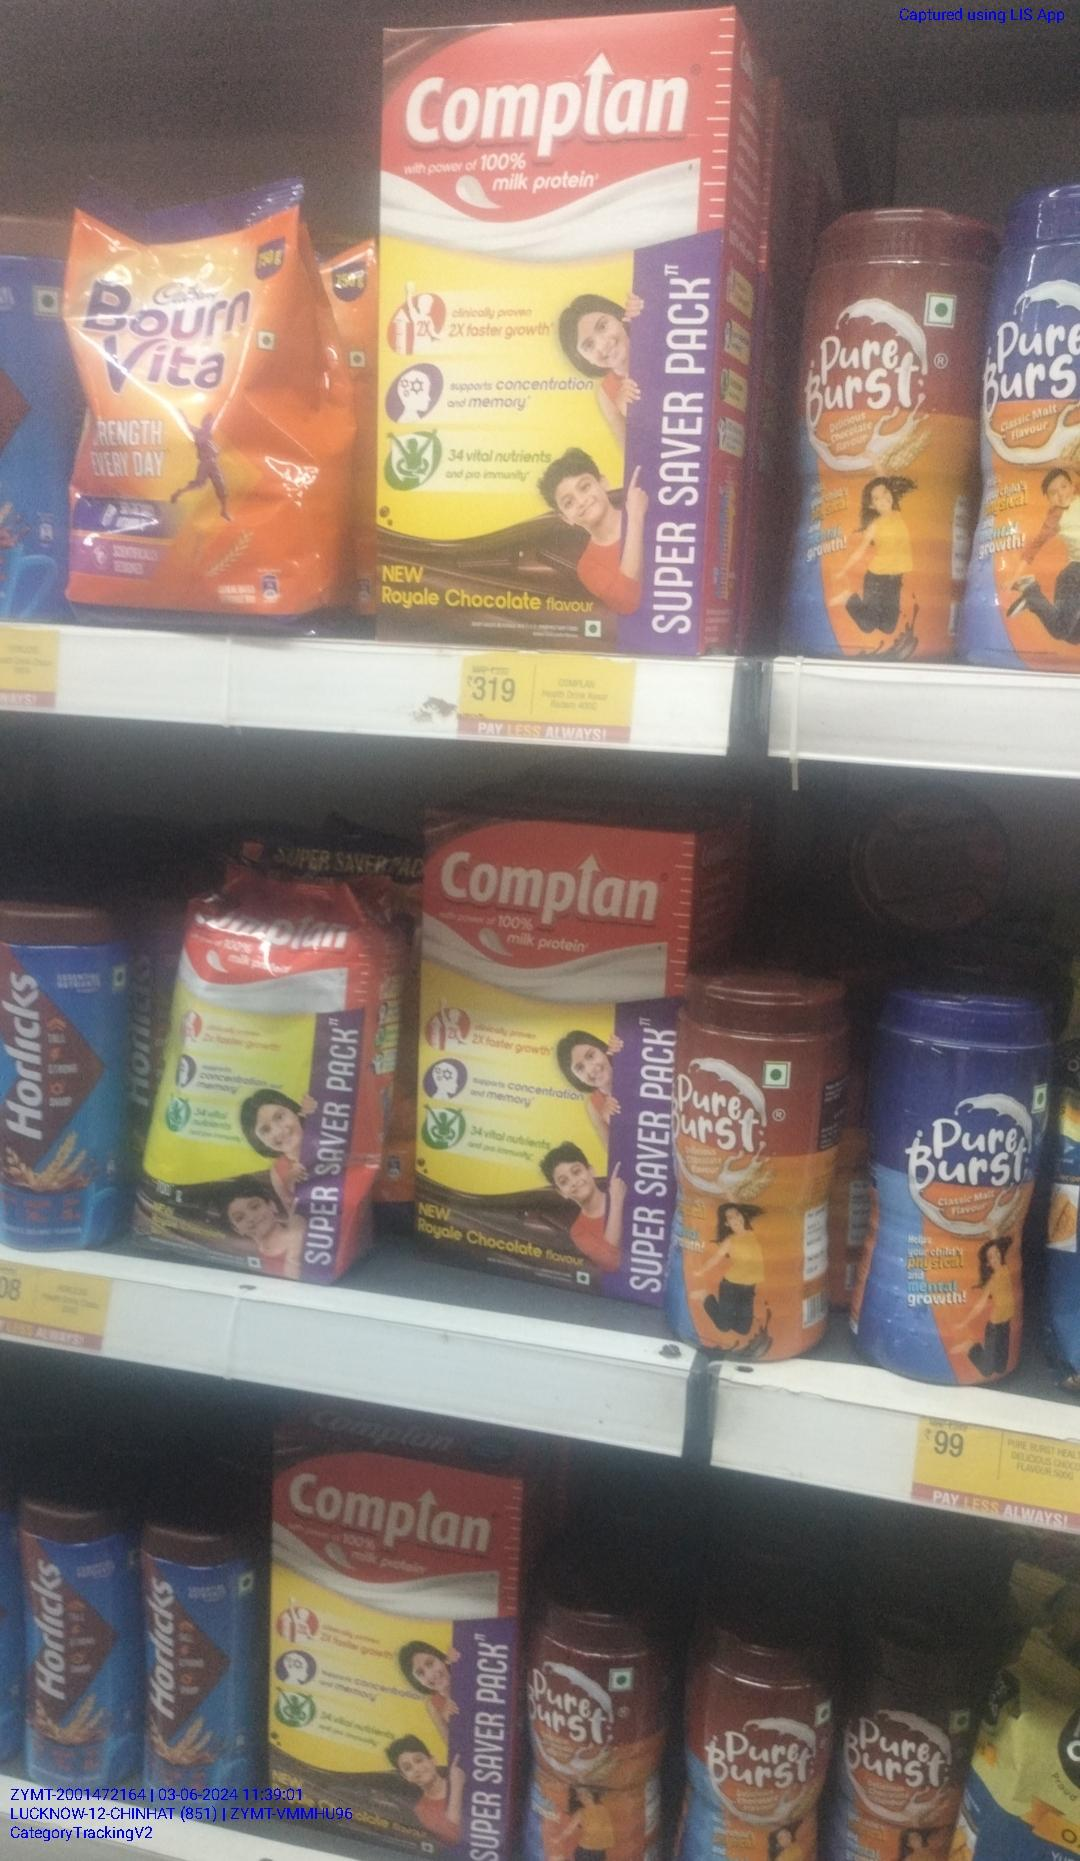COMPLAN_RC_POUCH_700_GMS_12: (153, 862, 381, 1275)
HORLICK_CHOCOLATE_500_G_JAR: (0, 877, 134, 1256), (138, 1514, 265, 1813), (30, 1490, 140, 1792)
